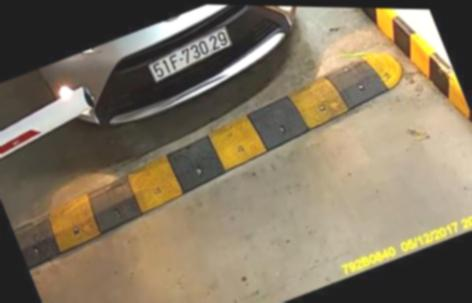License_Plate: (144, 23, 237, 95)
